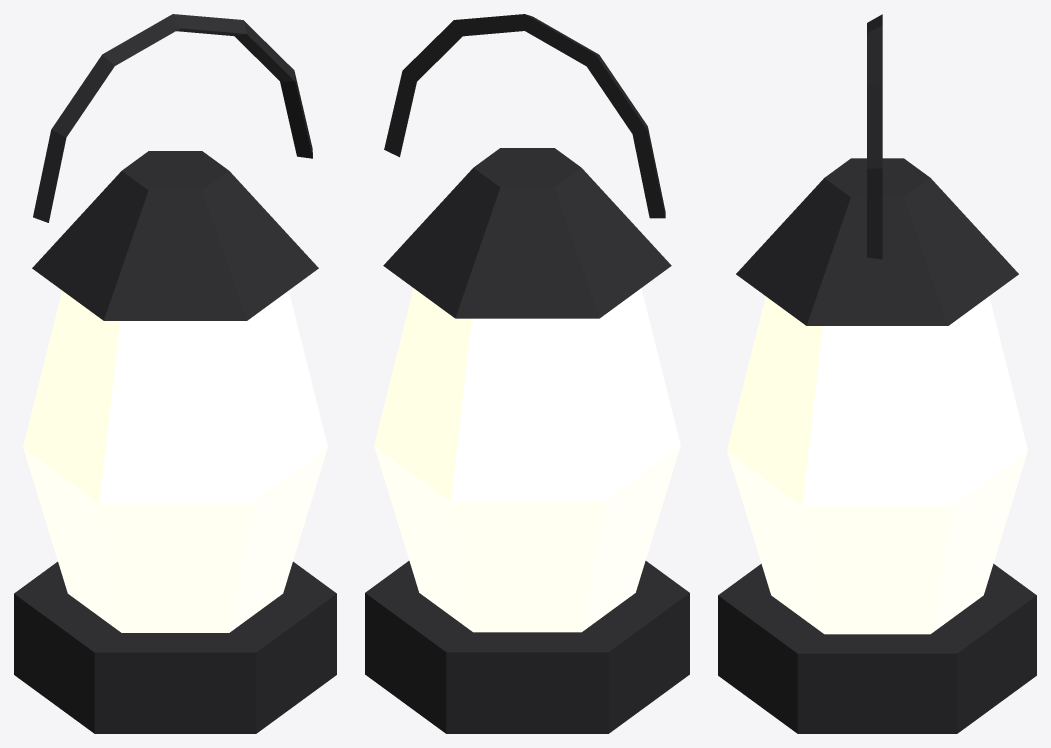
File: SM_Lantern.fbx
3 views of the same model, side by side, from view 1: azimuth 30°, elevation 25°; view 2: azimuth 150°, elevation 25°; view 3: azimuth 270°, elevation 25° (orthographic).
Parts seen in each view (by area): view 1: Lantern; view 2: Lantern; view 3: Lantern.
Boxes of the visible parts, left/top/right/bottom form: Lantern: left=14, top=14, right=336, bottom=733; Lantern: left=365, top=14, right=689, bottom=733; Lantern: left=718, top=14, right=1036, bottom=733.
Bounding box in the file's own units: 18.01 × 18 × 40.52.
